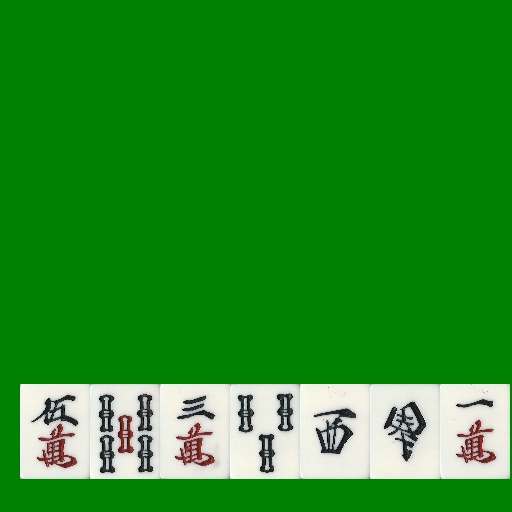1m: (440, 384, 510, 479)
3m: (160, 384, 230, 479)
3s: (230, 384, 300, 479)
5m: (20, 384, 90, 479)
5s: (90, 384, 160, 479)
south: (370, 384, 440, 479)
west: (300, 384, 370, 479)
